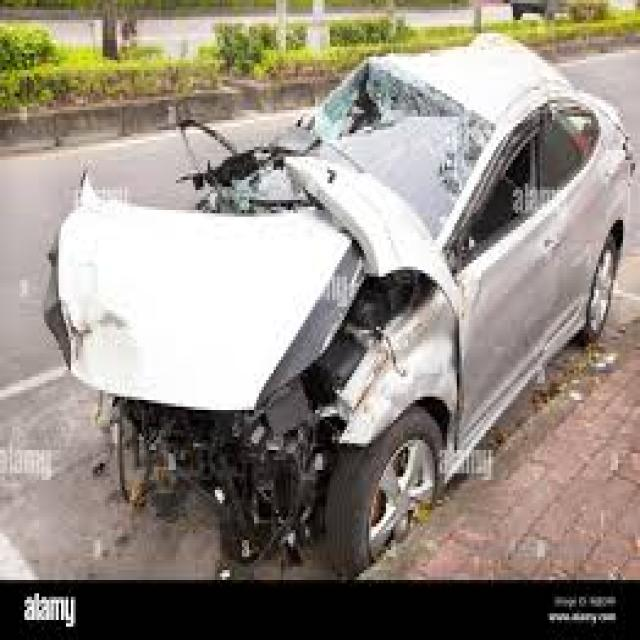accident: (43, 49, 607, 562)
